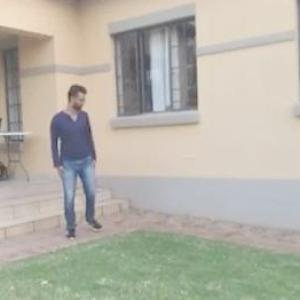follow: (51, 74, 102, 248)
